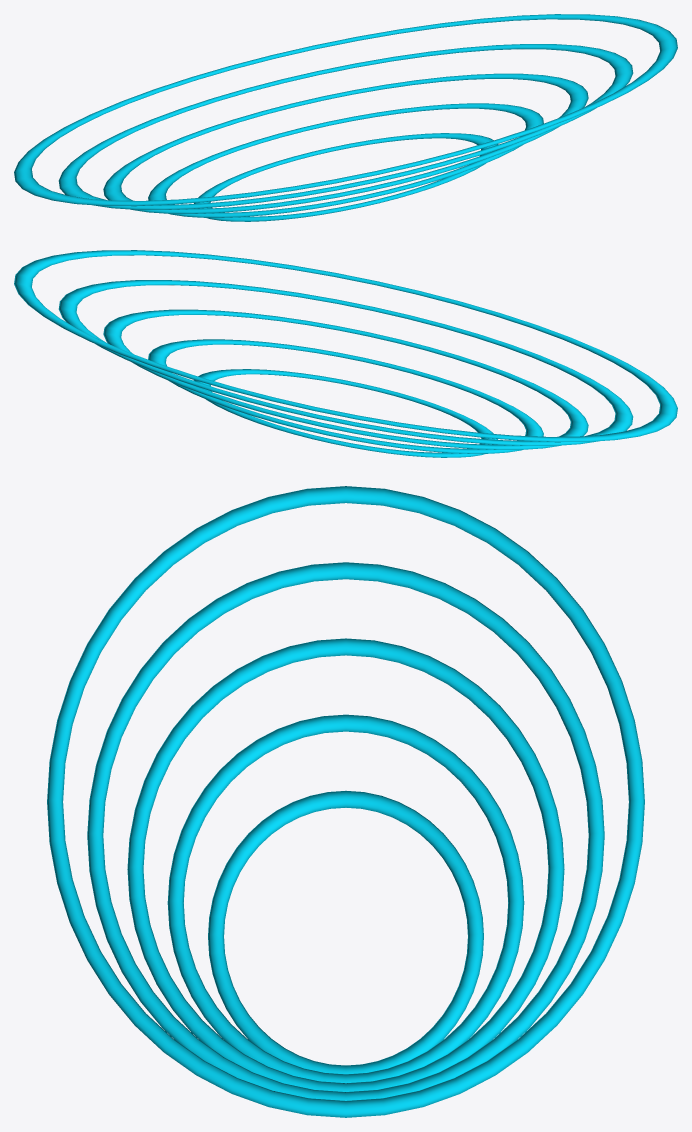
File: smooth-er.glb
3 renders of one model, top to bottom at view 1: azimuth 30°, elevation 25°; view 2: azimuth 150°, elevation 25°; view 3: azimuth 270°, elevation 25°, orthographic. The views are drawn at different scales.
Parts seen in each view (by area): view 1: Smooth Endoplasmic Reticulum; view 2: Smooth Endoplasmic Reticulum; view 3: Smooth Endoplasmic Reticulum.
Boxes of the visible parts, x1,y1,x2,y2 form: Smooth Endoplasmic Reticulum: (14,14,677,221); Smooth Endoplasmic Reticulum: (14,250,677,457); Smooth Endoplasmic Reticulum: (47,486,644,1117).
Bounding box in the file's own units: 2.41 × 0.2483 × 0.966.
